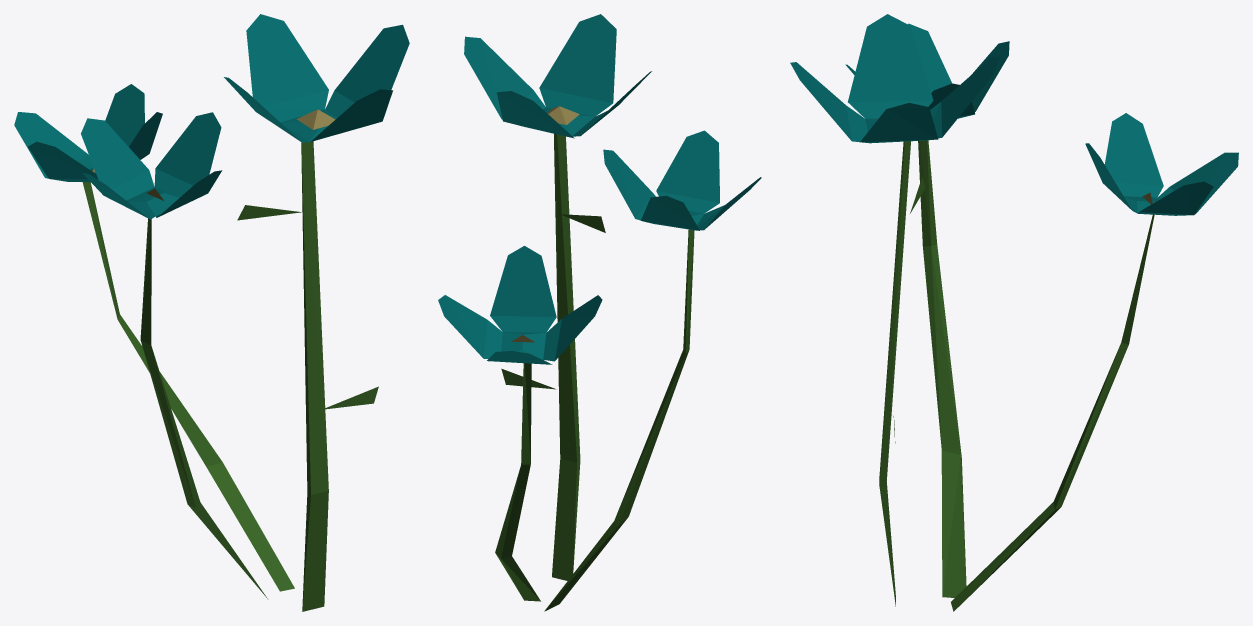
File: p_flower.glb
The picture shows the model from 3 angles, left to right: view 1: azimuth 30°, elevation 25°; view 2: azimuth 150°, elevation 25°; view 3: azimuth 270°, elevation 25°; orthographic projection. The views are drawn at different scales.
Visible parts, largest first — view 1: p_flower; view 2: p_flower; view 3: p_flower.
Boxes of the visible parts, left/top/right/bottom form: p_flower: left=14, top=14, right=409, bottom=611; p_flower: left=438, top=14, right=761, bottom=611; p_flower: left=790, top=14, right=1238, bottom=611.
Size of the model in its own units: 0.4832 by 0.823 by 0.6081.
